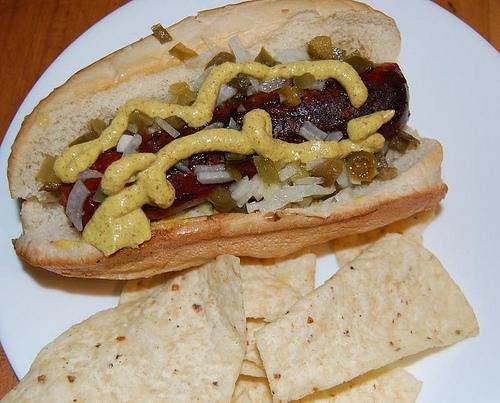onion: (258, 184, 335, 212), (65, 179, 91, 231), (184, 45, 222, 67), (389, 150, 423, 171), (228, 35, 252, 63), (193, 65, 217, 91), (236, 180, 258, 208), (298, 120, 328, 140), (214, 84, 238, 108), (154, 116, 180, 138), (196, 170, 234, 184), (121, 134, 142, 159), (256, 78, 292, 92), (76, 168, 104, 182), (277, 164, 298, 182), (336, 162, 350, 188), (230, 184, 250, 202), (193, 164, 225, 175), (246, 199, 269, 213), (294, 176, 326, 186), (229, 176, 249, 192), (306, 158, 330, 171), (117, 134, 134, 152), (262, 184, 281, 200), (92, 185, 109, 202), (249, 76, 263, 94), (253, 182, 265, 202), (226, 117, 243, 131), (282, 54, 304, 64), (324, 131, 344, 141), (202, 122, 225, 130), (312, 80, 326, 91), (128, 122, 138, 134), (248, 86, 254, 96)
